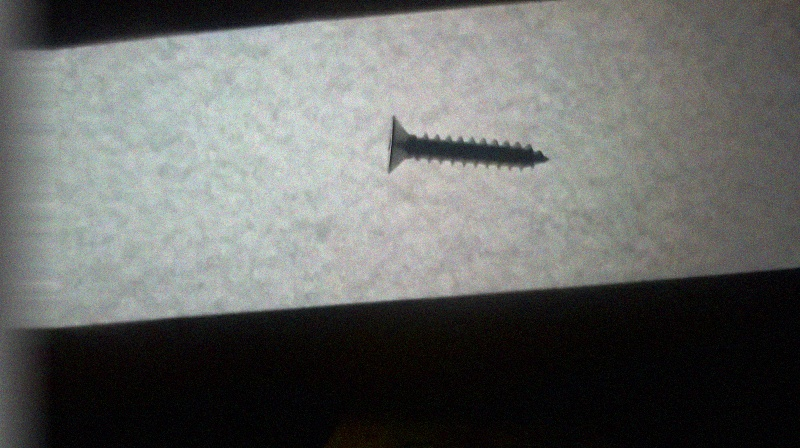S001: (384, 115, 552, 181)
